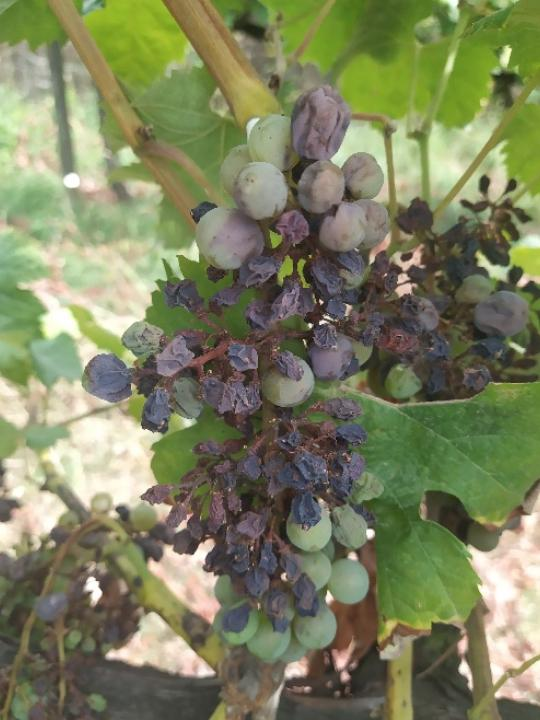grape: (77, 81, 441, 672)
